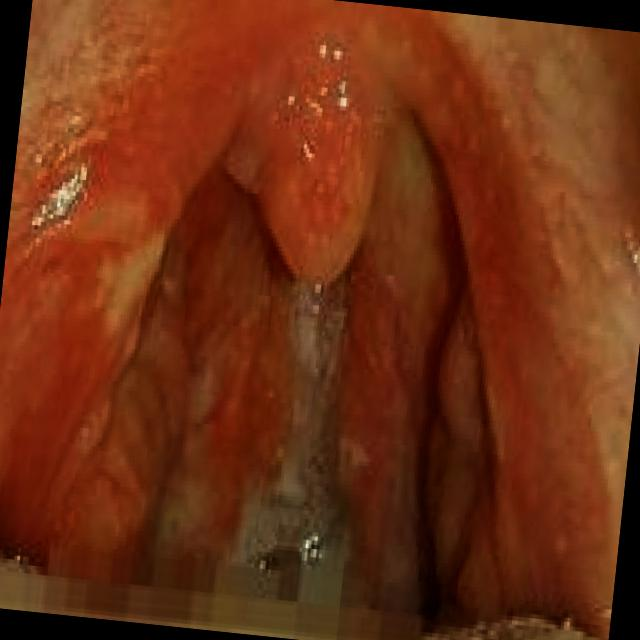Non Pharyngitis: (23, 218, 225, 558), (396, 300, 562, 640)
